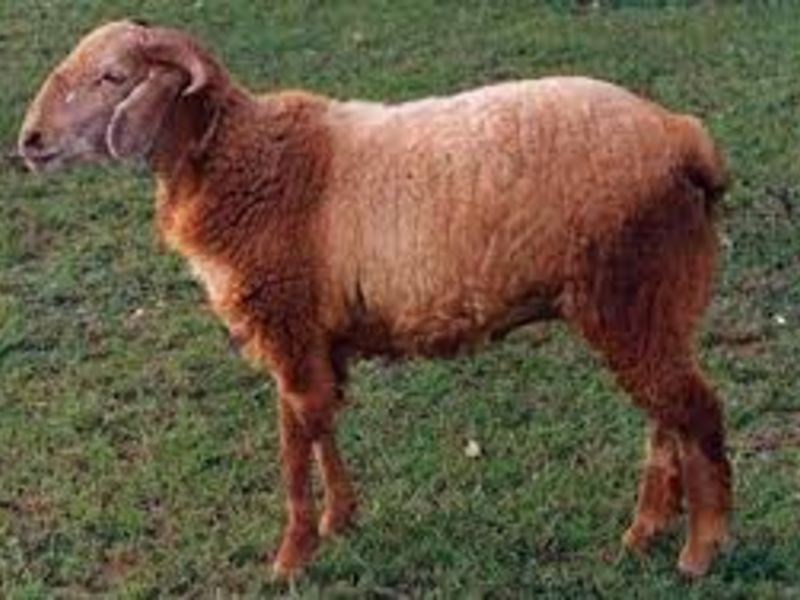sheep: (19, 9, 765, 585)
